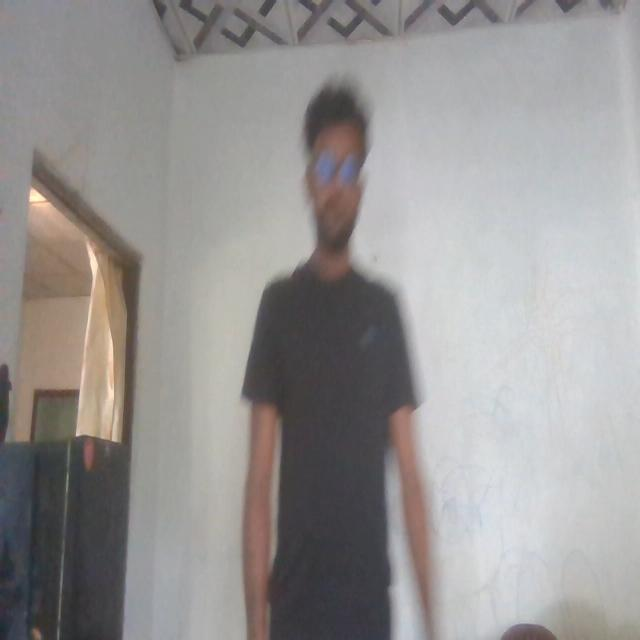Person: (242, 69, 428, 640)
